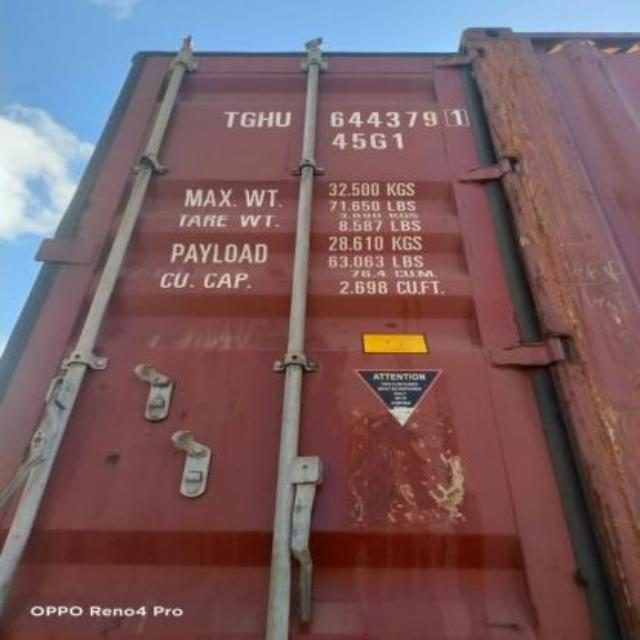1: (444, 104, 468, 126)
3: (386, 108, 402, 128)
4: (345, 105, 361, 128), (368, 106, 382, 130)
6: (327, 105, 345, 126)
7: (406, 108, 418, 130)
9: (420, 110, 438, 130)
G: (239, 104, 257, 132)
H: (260, 106, 274, 130)
T: (223, 104, 239, 130)
U: (275, 108, 291, 128)
